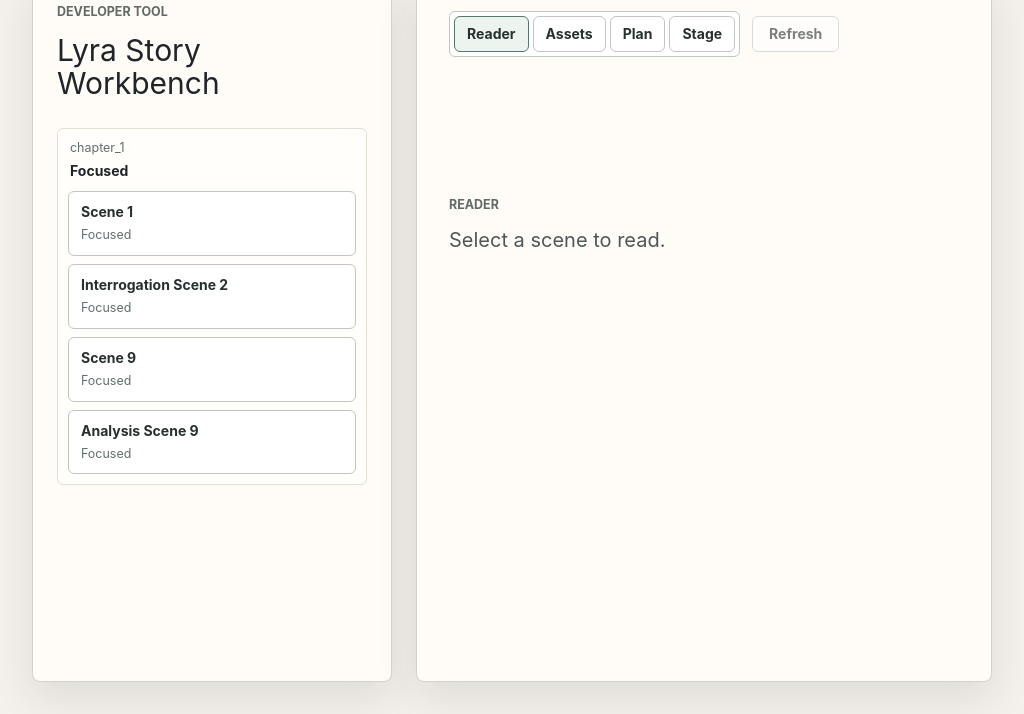
focused edit review › opens the same review for a metadata-wrapped interrogation line
Click the button "Interrogation Scene 2 Focused" at (155, 285), box [68,264,356,329]
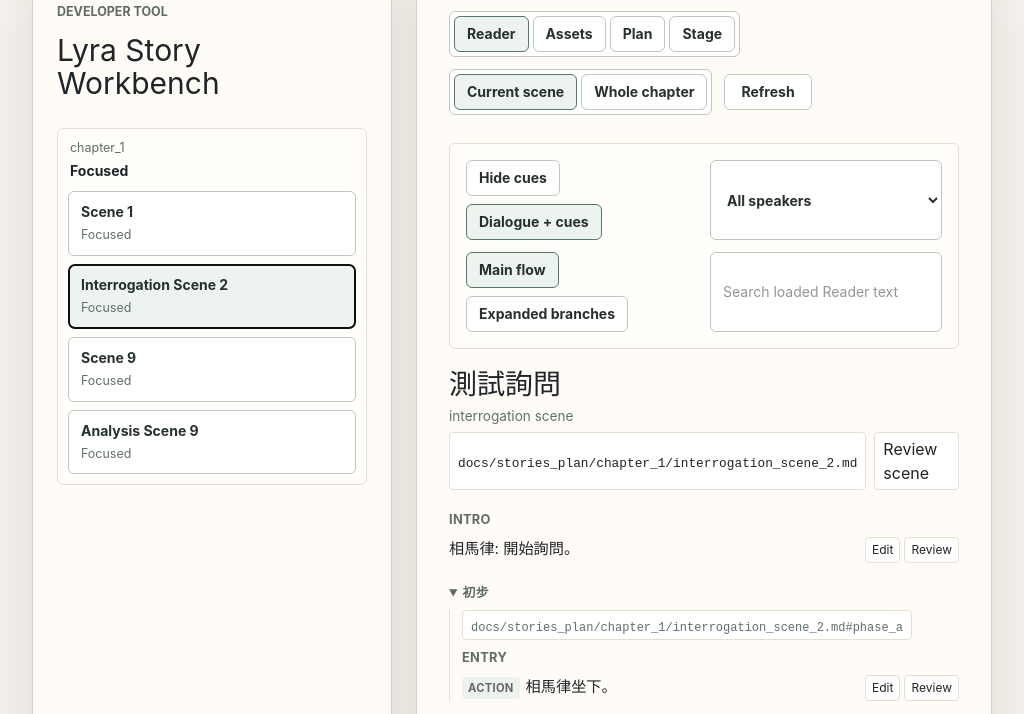
Check: the text "相馬律坐下。" is shown, box [526,677,617,696]
Click the button "Expanded branches" at (547, 314), box [466,296,628,332]
(page scrolled)
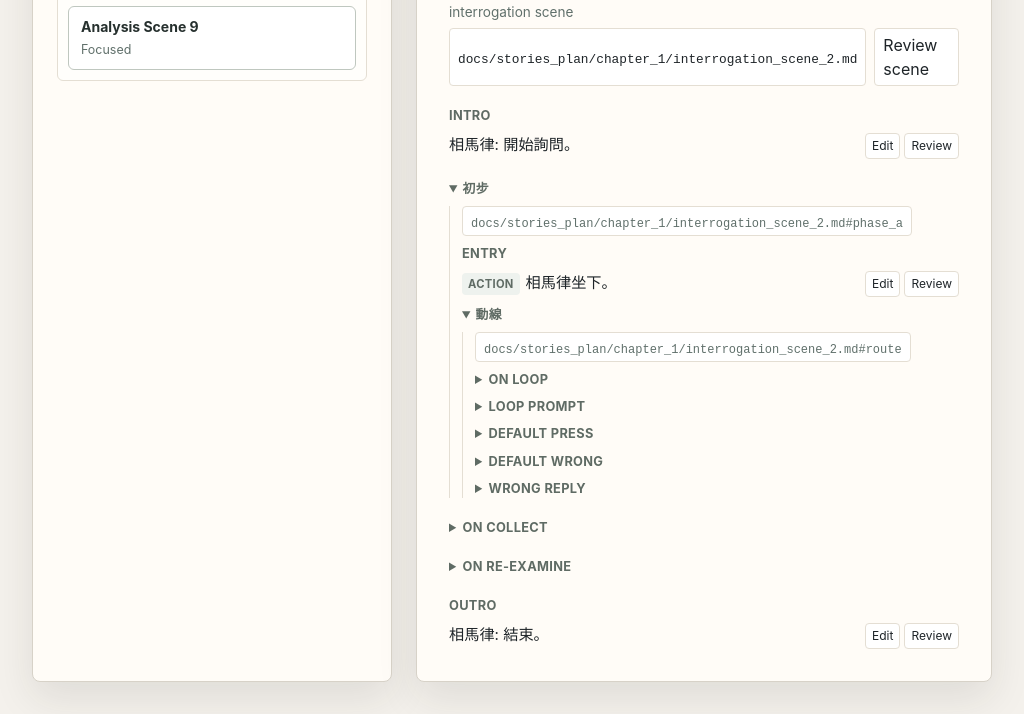
Click the heading "On Loop" at (518, 379), box [488,372,548,387]
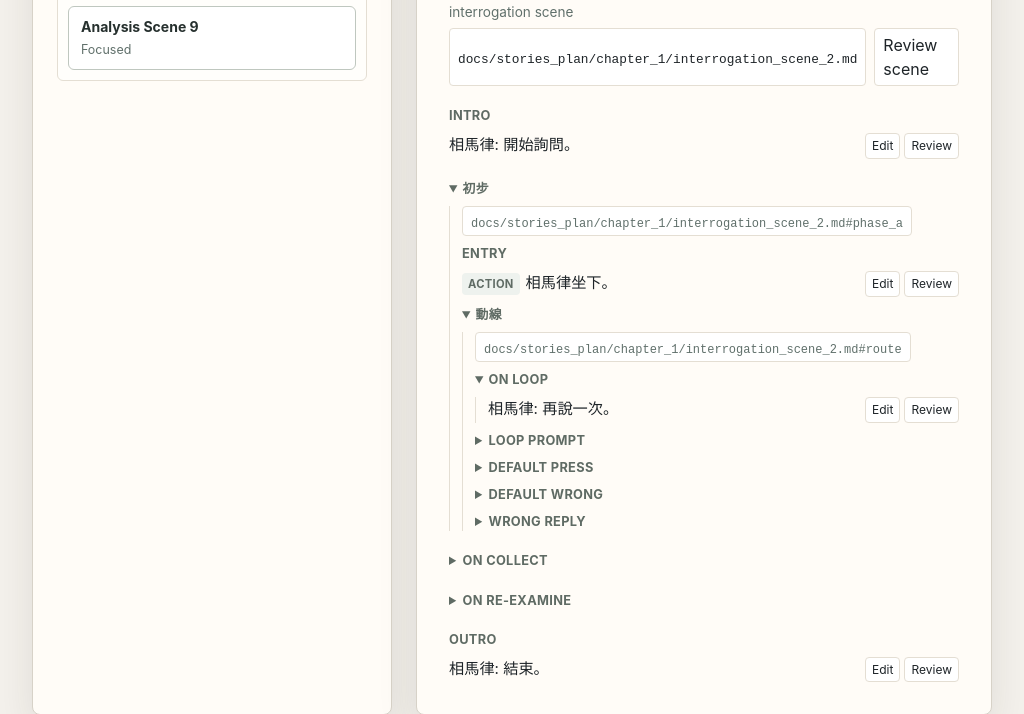
Click the button "Edit" in the row of "相馬律: 再說一次。" at (883, 410), box [865,397,900,423]
(page scrolled)
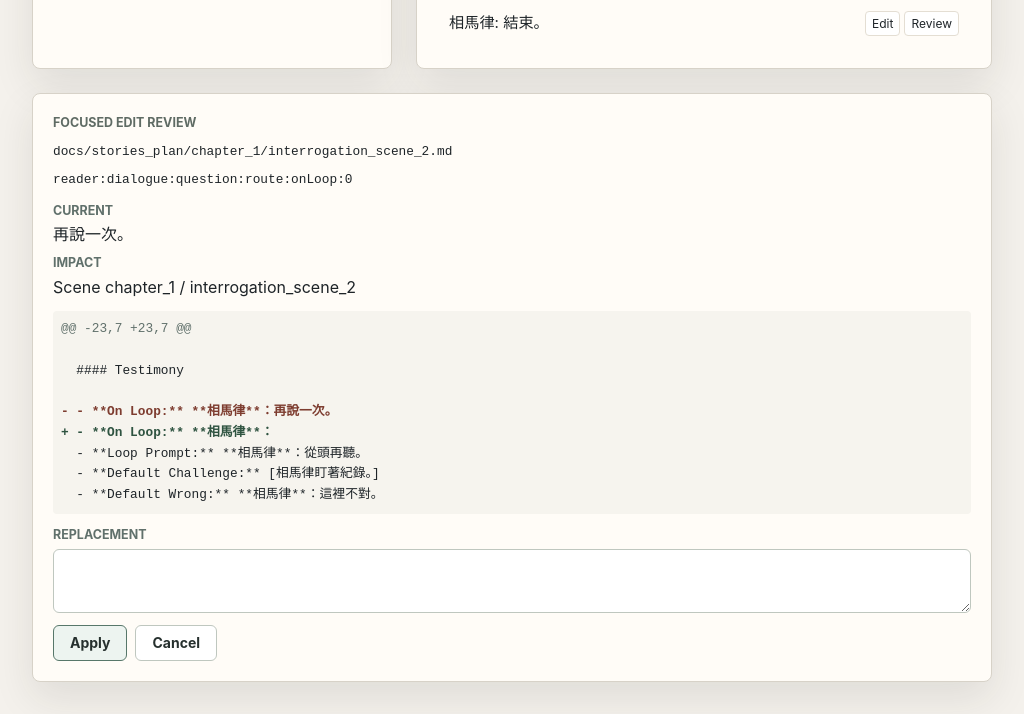
Check: the text "docs/stories_plan/chapter_1/interrogation_scene_2.md" is shown, box [53,144,452,159]
Check: the text "reader:dialogue:question:route:onLoop:0" is shown, box [53,172,352,187]
Type "就說一次就好。" into the text box named "Replacement text" at (512, 581), box [53,549,971,613]
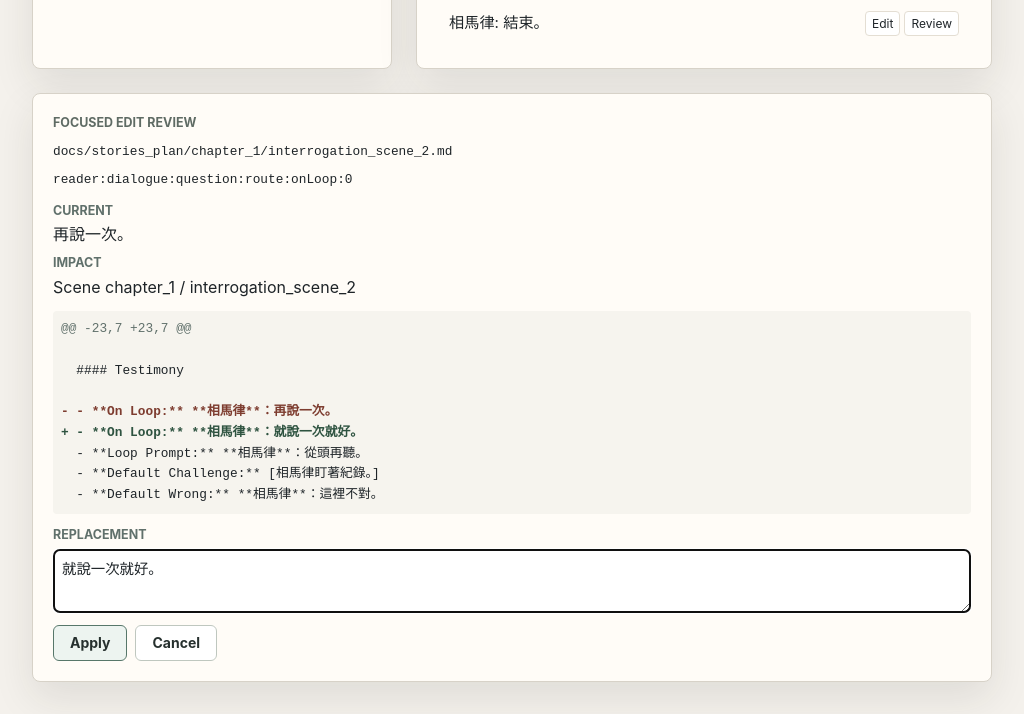
Click the button "Apply" at (90, 643), box [53,625,128,661]
(page scrolled)
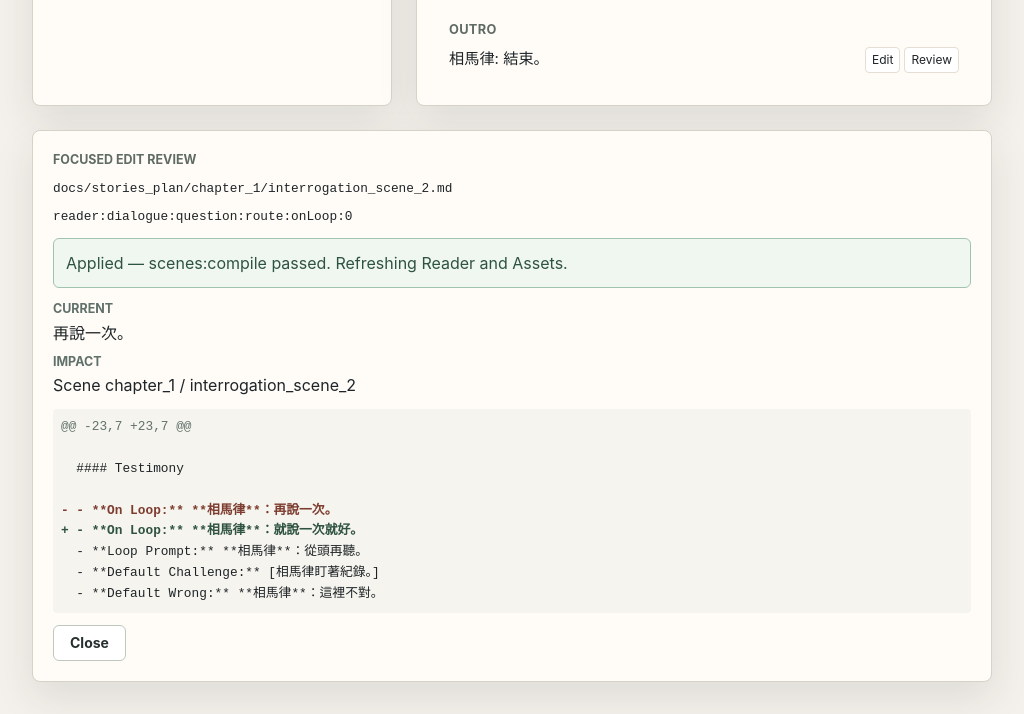
Check: the text "Applied — scenes:compile passed. Refreshing Reader and Assets." is shown, box [53,238,971,288]
